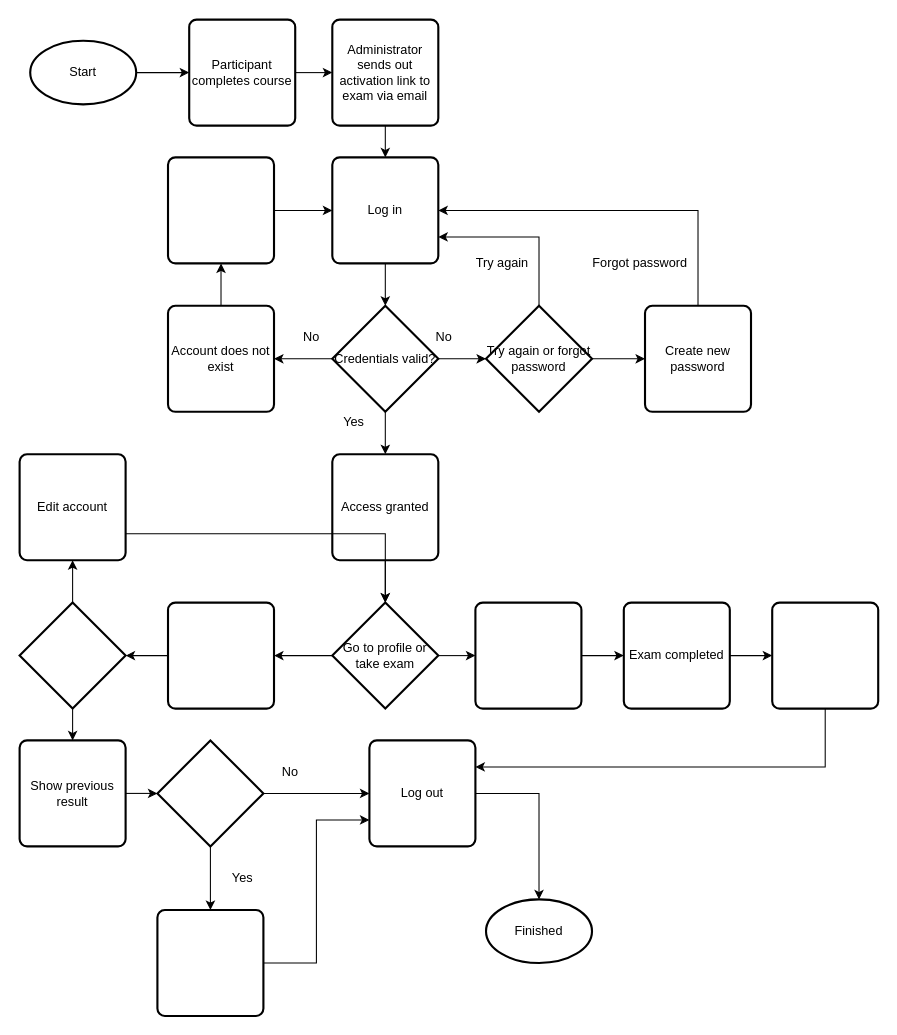
The diagram is 897 pixels wide and 1035 high, and some of its shapes have lost their labels. Here are the shapes that lost their labels. From the top down, the centre of each, then its label:
the point at 220,210: Create account
the point at 72,655: Edit account or show previous results
the point at 220,655: Go to profile
the point at 528,655: Take exam
the point at 825,655: Receive certificate via email
the point at 210,793: Download certificate?
the point at 210,962: Certificate downloaded
